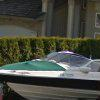Boat: (4, 43, 98, 97)
